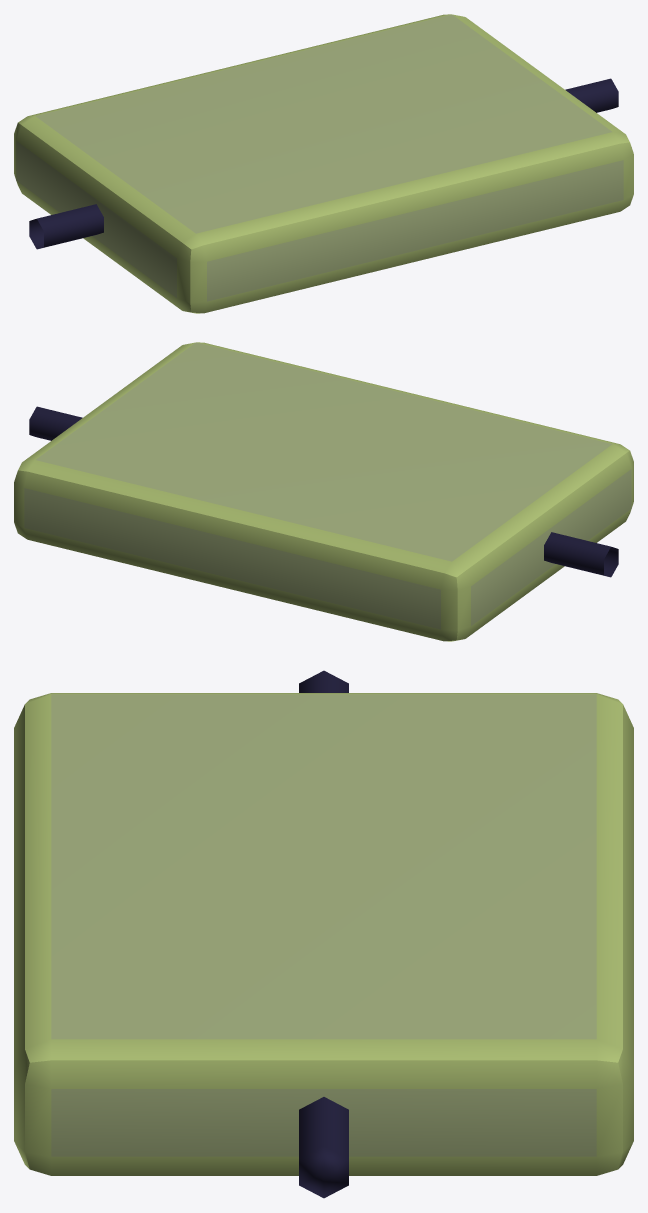
File: Obstacle_04_02.fbx
The picture shows the model from 3 angles, top to bottom: view 1: azimuth 30°, elevation 25°; view 2: azimuth 150°, elevation 25°; view 3: azimuth 270°, elevation 25°; orthographic projection. The views are drawn at different scales.
Parts seen in each view (by area): view 1: Obstacle_0402; view 2: Obstacle_0402; view 3: Obstacle_0402.
Part boxes in pixels (bbox=[...]): Obstacle_0402: bbox=[14, 14, 633, 313]; Obstacle_0402: bbox=[14, 342, 633, 641]; Obstacle_0402: bbox=[14, 670, 633, 1198].
Bounding box in the file's own units: 267 × 35.45 × 147.
